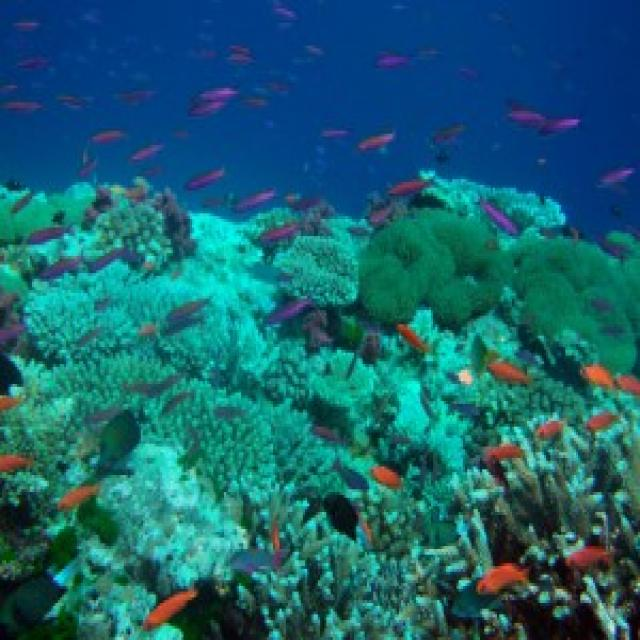Bleached: (99, 445, 244, 593)
Healthy: (379, 322, 639, 638), (42, 351, 319, 504), (52, 214, 272, 371), (253, 516, 415, 638), (359, 211, 509, 325), (515, 237, 635, 368), (274, 231, 357, 305)
